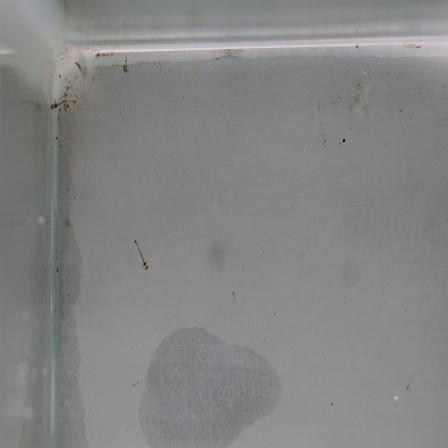Jentik-Nyamuk: (132, 235, 152, 272), (48, 94, 78, 113), (119, 55, 133, 78)
